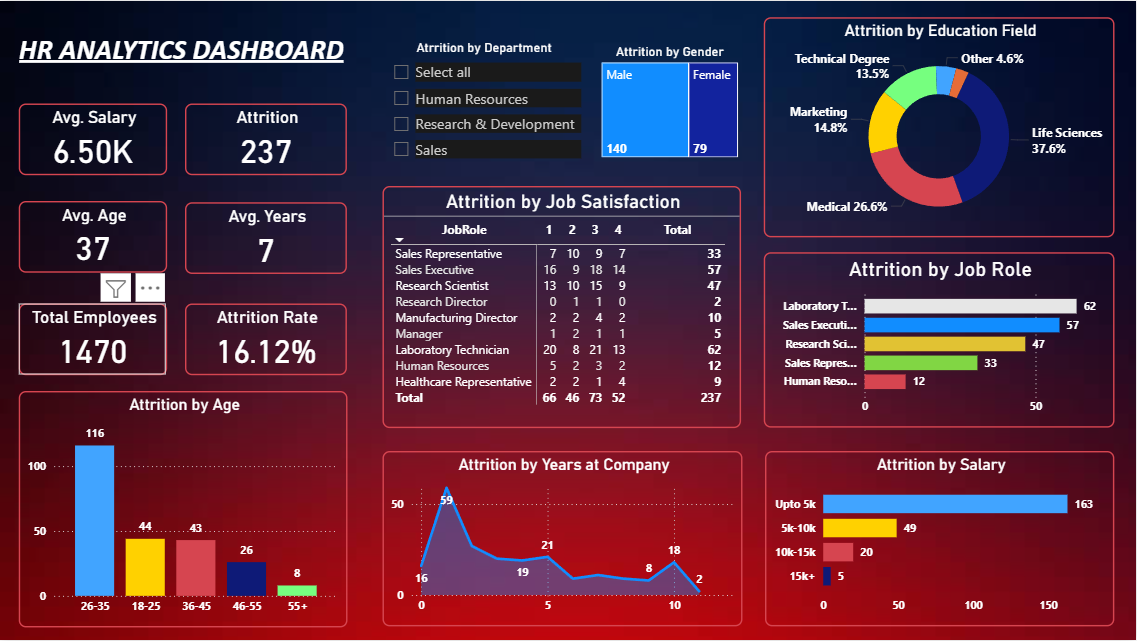

The dashboard page shown, as its layout file describes it:
{"tool":"powerbi","page":{"name":"Page 1","canvas":[1280,720],"ordinal":0},"visuals":[{"type":"card","title":"Attrition","fields":{"Values":["Sum(HR_Analytics.AttritionCount)"]},"box":[208.1,115.3,182.7,80.9],"z":0},{"type":"card","title":"Attrition Rate","fields":{"Values":["HR_Analytics.Attr_rate"]},"box":[208.1,341.4,182.7,80.9],"z":1000},{"type":"card","title":"Total Employees","fields":{"Values":["Count(HR_Analytics.EmpID)"]},"box":[20.6,340.3,167.4,81],"z":2000},{"type":"card","title":"Avg. Years","fields":{"Values":["Avg(HR_Analytics.YearsAtCompany)"]},"box":[208.1,226.1,182.7,80.9],"z":3000},{"type":"card","title":"Avg. Salary","fields":{"Values":["Avg(HR_Analytics.MonthlyIncome)"]},"box":[20.6,115.3,167.4,81],"z":4000},{"type":"card","title":"Avg. Age","fields":{"Values":["Avg(HR_Analytics.Age)"]},"box":[20.6,225,167.4,81],"z":5000},{"type":"donutChart","title":"Attrition by Education Field","fields":{"Category":["HR_Analytics.EducationField"],"Y":["Sum(HR_Analytics.AttritionCount)"]},"box":[860.4,17.8,395.2,248.4],"z":6000},{"type":"shape","box":[0,16.5,408.8,74.9],"z":7000},{"type":"treemap","title":"Attrition by Gender","fields":{"Group":["HR_Analytics.Gender"],"Values":["Sum(HR_Analytics.AttritionCount)"]},"box":[673.8,47.9,163.2,133.3],"z":8000},{"type":"clusteredBarChart","title":"Attrition by Salary","fields":{"Y":["Sum(HR_Analytics.AttritionCount)"],"Category":["HR_Analytics.SalarySlab"]},"box":[862.5,507.6,393.8,197.7],"z":9000},{"type":"columnChart","title":"Attrition by Age ","fields":{"Y":["Sum(HR_Analytics.AttritionCount)"],"Category":["HR_Analytics.AgeGroup"]},"box":[20.6,439.1,370.5,266.2],"z":10000},{"type":"pivotTable","title":"Attrition by Job Satisfaction","fields":{"Rows":["HR_Analytics.JobRole"],"Columns":["HR_Analytics.JobSatisfaction"],"Values":["Sum(HR_Analytics.AttritionCount)"]},"box":[431.3,208.1,404.3,272.5],"z":11000},{"type":"areaChart","title":"Attrition by Years at Company","fields":{"Category":["HR_Analytics.YearsAtCompany"],"Y":["Sum(HR_Analytics.AttritionCount)"]},"box":[431.3,507.6,405.8,197.7],"z":12000},{"type":"clusteredBarChart","title":"Attrition by Job Role","fields":{"Y":["Sum(HR_Analytics.AttritionCount)"],"Category":["HR_Analytics.JobRole"]},"box":[861,283,395.3,197.7],"z":13000},{"type":"slicer","title":"Atrrition by Department","fields":{"Values":["HR_Analytics.Department"]},"box":[431.3,43.4,229.1,142.3],"z":14000}]}

Visuals, with their boxes in screenshot pixels (x1, y1, x2, y2), scaled from the page's 1280x720 canvas onto the 1137x641 screenshot:
"Attrition" card: 185:103:347:175
"Attrition Rate" card: 185:304:347:376
"Total Employees" card: 18:303:167:375
"Avg. Years" card: 185:201:347:273
"Avg. Salary" card: 18:103:167:175
"Avg. Age" card: 18:200:167:272
"Attrition by Education Field" donutChart: 764:16:1115:237
shape: 0:15:363:81
"Attrition by Gender" treemap: 599:43:743:161
"Attrition by Salary" clusteredBarChart: 766:452:1116:628
"Attrition by Age " columnChart: 18:391:347:628
"Attrition by Job Satisfaction" pivotTable: 383:185:742:428
"Attrition by Years at Company" areaChart: 383:452:744:628
"Attrition by Job Role" clusteredBarChart: 765:252:1116:428
"Atrrition by Department" slicer: 383:39:587:165
